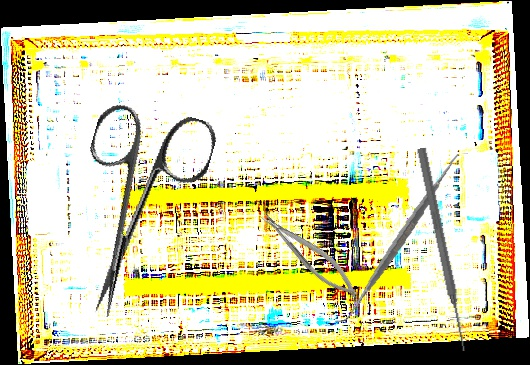Iris Scissors: (46, 92, 221, 333)
Needle Holder: (256, 203, 364, 306)
Pusher: (414, 146, 471, 353)
Spatula Surgical: (319, 152, 484, 323)
